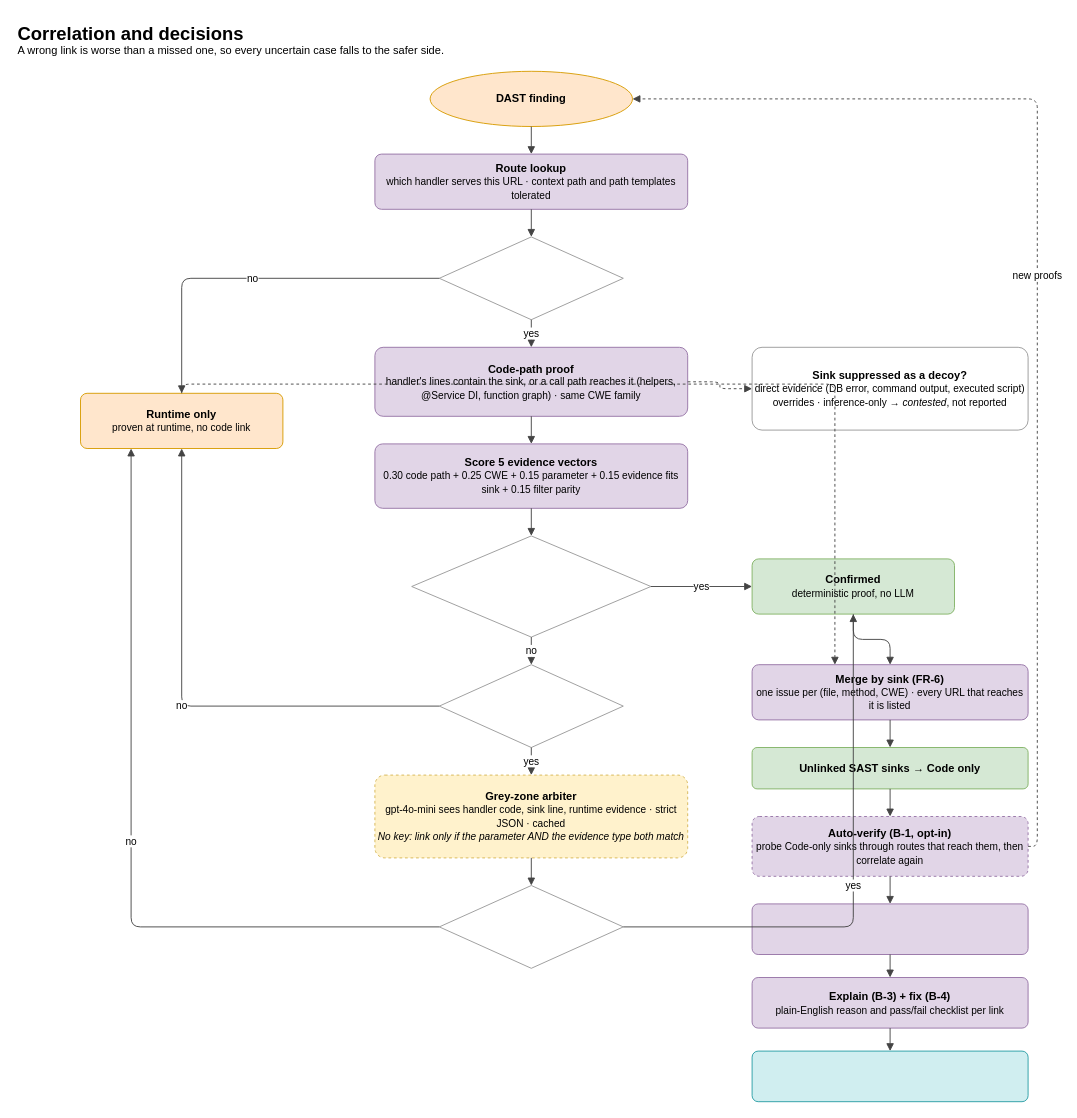
The diagram is 1077 pixels wide and 1118 high, and some of its shapes have lost their labels. The shapes that lost their labels are listed below. From the top down, each one's centre as x and y in pixels, then its label:
At [530,278]: "Handler found?".
At [531,586]: "S ≥ 0.72 and path proven?".
At [530,706]: "S ≥ 0.48?".
At [530,926]: "Linked?".
At [889,928]: "Prioritise (FR-9) Confirmed first, then risk score: status + severity + flags".
At [889,1076]: "Outputs issues API · SARIF + CI gate · scan compare · Postman · Vault plan".
